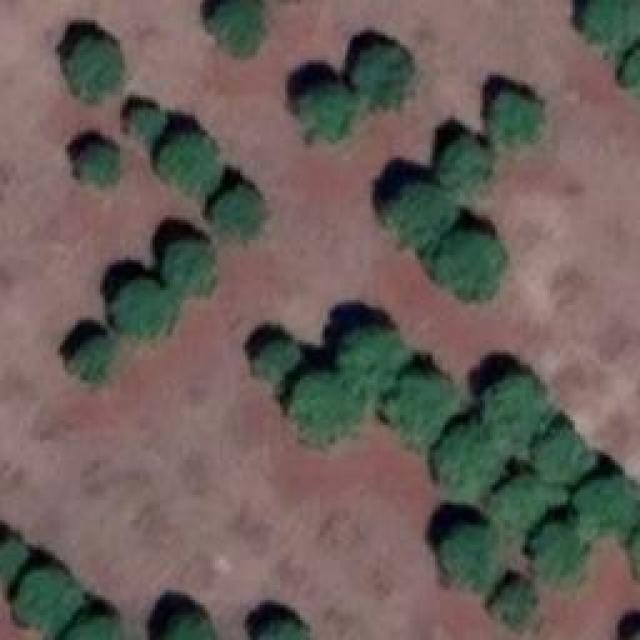Tree: (427, 223, 510, 301), (475, 373, 548, 446), (385, 367, 457, 437), (427, 512, 497, 584), (288, 370, 355, 442), (380, 173, 453, 239), (528, 518, 597, 587), (573, 470, 640, 538), (10, 563, 77, 631), (433, 425, 496, 497), (110, 270, 177, 337), (350, 40, 417, 107), (340, 318, 406, 382), (488, 475, 553, 539), (290, 73, 356, 135), (483, 78, 546, 142), (535, 423, 597, 483), (160, 133, 216, 197), (208, 185, 267, 244), (65, 38, 122, 98), (160, 232, 217, 289), (436, 132, 488, 191), (572, 0, 639, 42), (213, 3, 269, 53), (490, 575, 543, 627), (65, 330, 118, 379), (78, 143, 128, 192), (258, 335, 305, 380), (160, 605, 213, 640), (0, 528, 30, 587), (60, 608, 112, 640), (132, 98, 167, 138), (615, 40, 640, 93), (250, 615, 303, 640)
